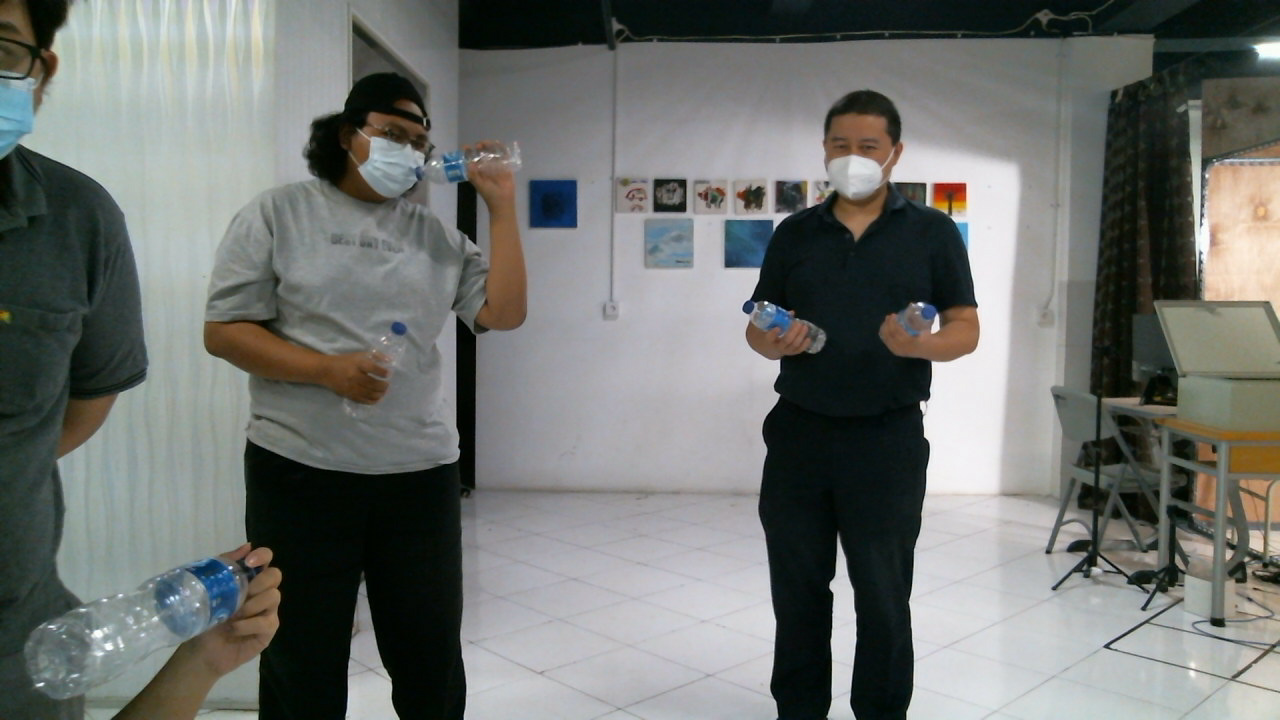Bottle: (26, 555, 262, 698), (743, 297, 829, 356)
